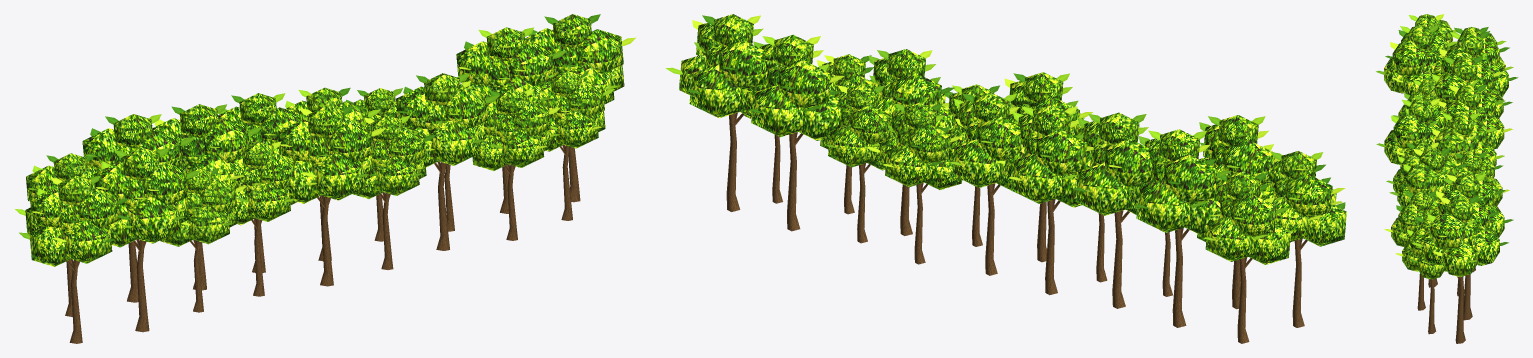
Rendered from V06_vegetation_back_v2.glb.
The picture shows the model from 3 angles, left to right: view 1: azimuth 30°, elevation 25°; view 2: azimuth 150°, elevation 25°; view 3: azimuth 270°, elevation 25°; orthographic projection. The views are drawn at different scales.
Parts seen in each view (by area): view 1: GAME_VEG_Dense_inner_leaves, GAME_V2_Bark, GAME_VEG_Sculpted_leaves; view 2: GAME_VEG_Dense_inner_leaves, GAME_V2_Bark, GAME_VEG_Sculpted_leaves; view 3: GAME_VEG_Dense_inner_leaves, GAME_VEG_Sculpted_leaves, GAME_V2_Bark.
Boxes of the visible parts, <box> form: GAME_VEG_Dense_inner_leaves: <box>25,14,624,266</box>; GAME_V2_Bark: <box>65,145,580,343</box>; GAME_VEG_Sculpted_leaves: <box>15,14,635,248</box>; GAME_VEG_Dense_inner_leaves: <box>679,14,1346,264</box>; GAME_V2_Bark: <box>726,112,1307,343</box>; GAME_VEG_Sculpted_leaves: <box>665,15,1345,247</box>; GAME_VEG_Dense_inner_leaves: <box>1384,14,1508,279</box>; GAME_VEG_Sculpted_leaves: <box>1376,14,1518,267</box>; GAME_V2_Bark: <box>1417,267,1475,343</box>.
Size of the model in its own units: 10.31 by 2.99 by 2.65.
3 materials, 3 textured.
